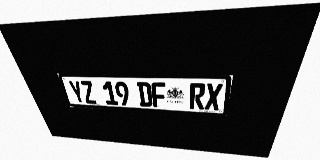1: (101, 81, 118, 105)
9: (114, 81, 131, 106)
D: (136, 82, 153, 107)
F: (151, 82, 166, 108)
R: (189, 83, 206, 109)
X: (204, 83, 223, 110)
Y: (67, 80, 86, 103)
Z: (79, 81, 98, 104)
